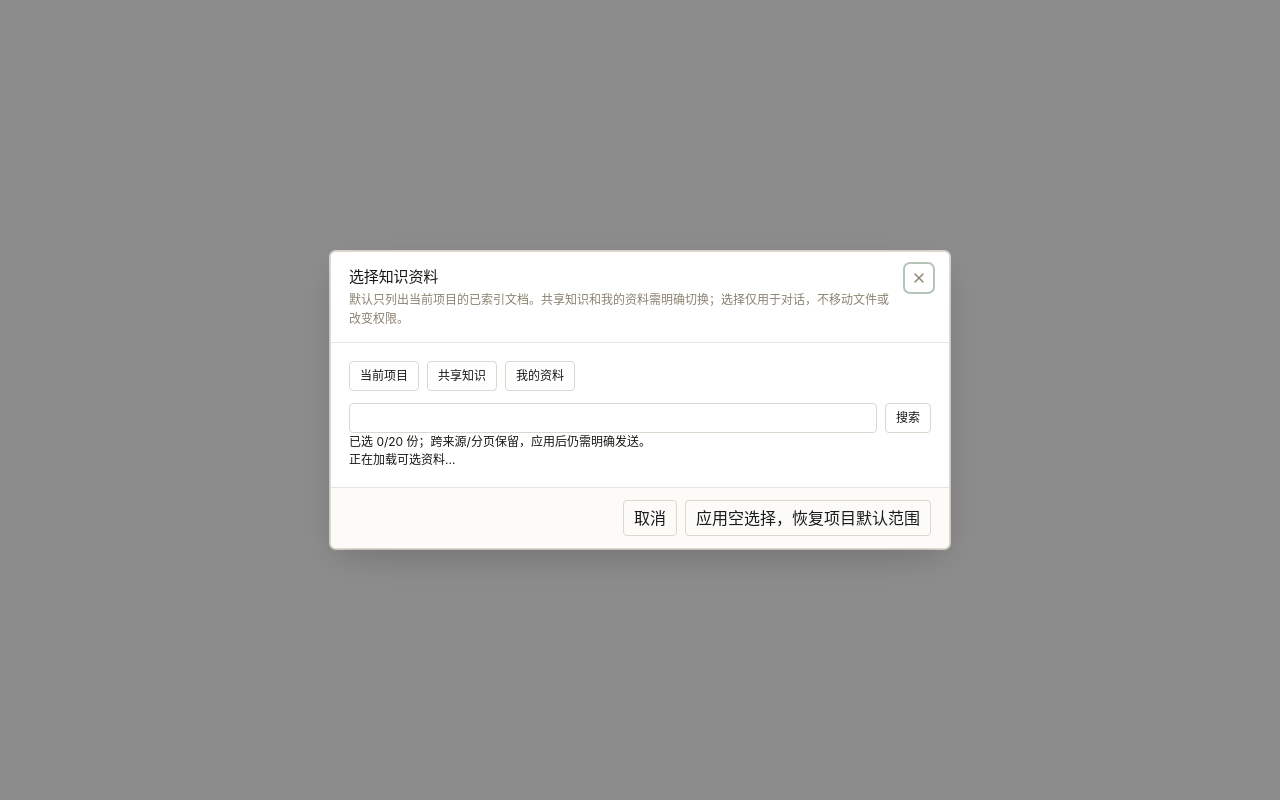
Test: project document picker › discards late results from another scope
Click the button "我的资料" at (540, 376), box [505, 361, 575, 391]
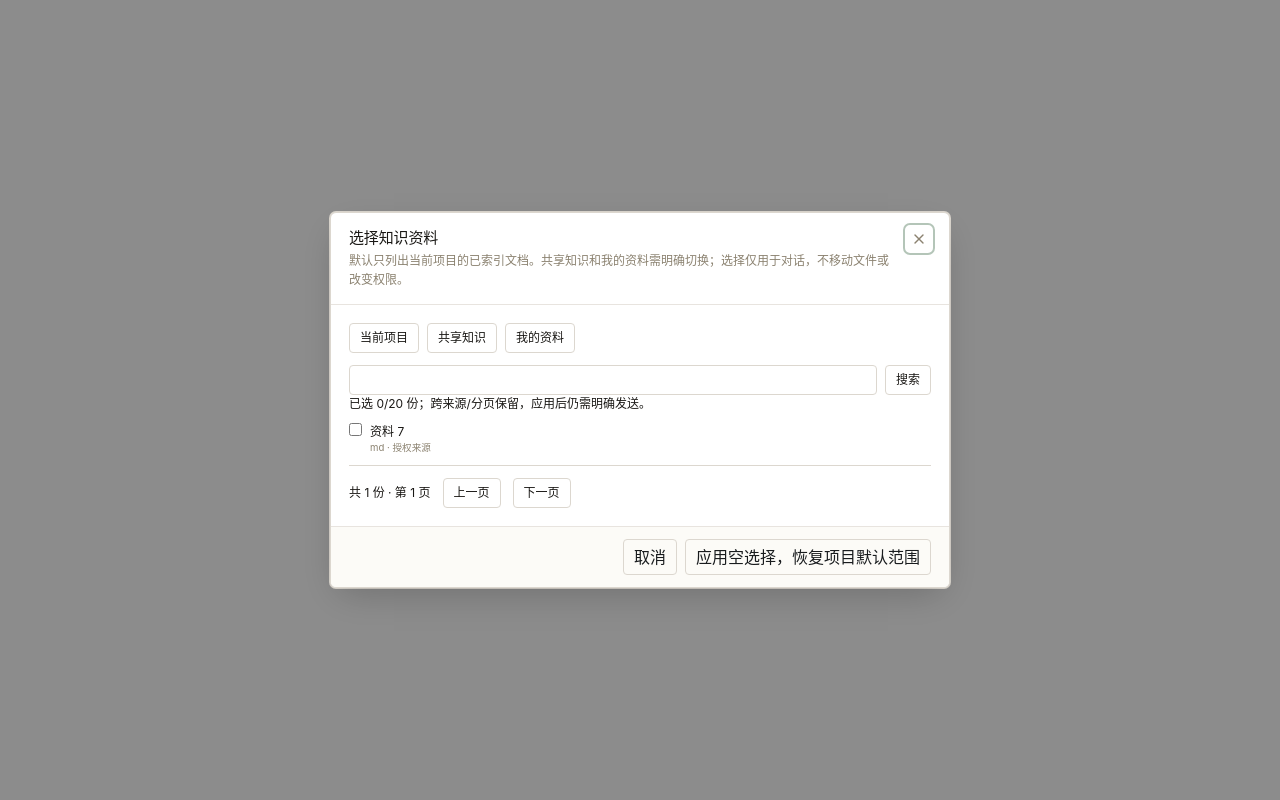
Expected: the checkbox named "选择资料 资料 7" is shown, [349, 423, 362, 436]
